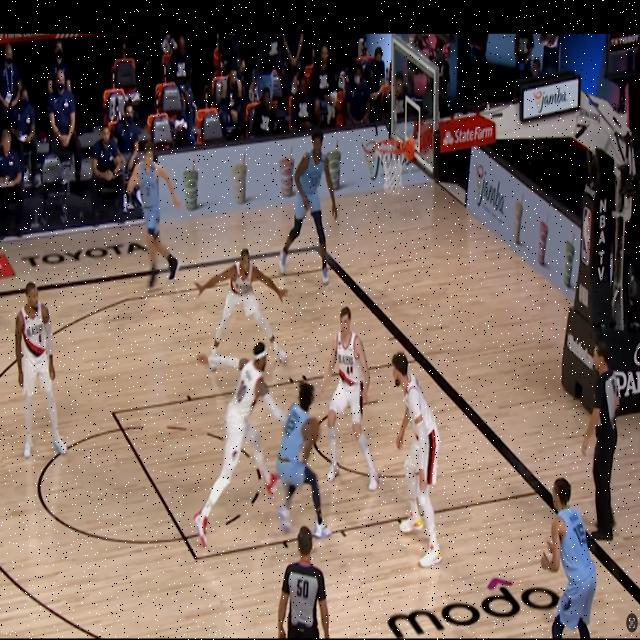no foul: (202, 327, 276, 558), (270, 358, 327, 556)
